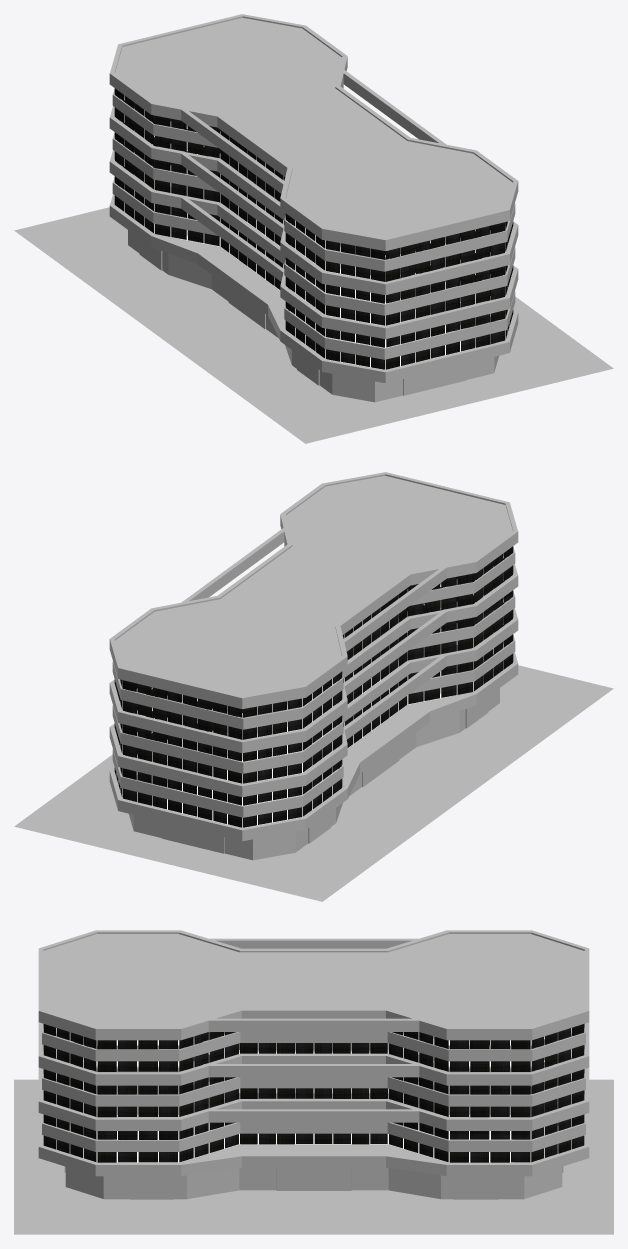
3 renders of one model, top to bottom at view 1: azimuth 30°, elevation 25°; view 2: azimuth 150°, elevation 25°; view 3: azimuth 270°, elevation 25°, orthographic. The views are drawn at different scales.
Parts seen in each view (by area): view 1: M-010; view 2: M-010; view 3: M-010.
Part boxes in pixels (box(x1,y1,x2,y2)): M-010: box(14, 14, 613, 443); M-010: box(14, 472, 613, 901); M-010: box(14, 930, 613, 1234).
Size of what is drawn, in the model's own units: 44 by 23.5 by 72.
